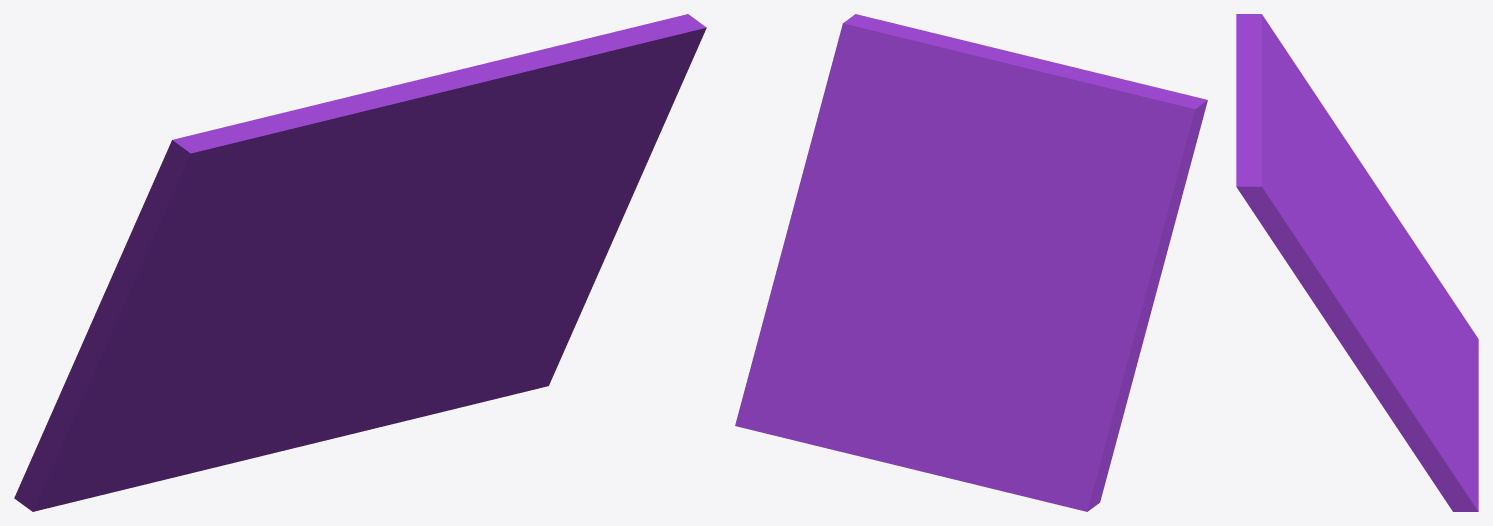
The model's file is Window_24_chunks.fbx.
3 views of the same model, side by side, from view 1: azimuth 30°, elevation 25°; view 2: azimuth 150°, elevation 25°; view 3: azimuth 270°, elevation 25° (orthographic). The views are drawn at different scales.
Visible parts, largest first — view 1: Window_24_7, Window_24_5, Window_24_3, Window_24_1, Window_24_11, Window_24_16, Window_24_17, Window_24_2, Window_24_12, Window_24_13, Window_24_18, Window_24_21 (+14 smaller); view 2: Window_24_7, Window_24_5, Window_24_4, Window_24_9, Window_24_1, Window_24_8, Window_24_2, Window_24_11, Window_24_0, Window_24_30, Window_24_3, Window_24_26 (+12 smaller); view 3: Window_24_7, Window_24_5, Window_24_4, Window_24_3, Window_24_9, Window_24_11, Window_24_1, Window_24_2, Window_24_8, Window_24_0, Window_24_26, Window_24_30 (+11 smaller).
Boxes of the visible parts, x1,y1,x2,y2 form: Window_24_7: (478, 14, 706, 202); Window_24_5: (293, 58, 514, 235); Window_24_3: (398, 218, 622, 382); Window_24_1: (14, 338, 308, 506); Window_24_11: (168, 106, 320, 213); Window_24_16: (137, 212, 251, 335); Window_24_17: (197, 259, 373, 361); Window_24_2: (244, 258, 452, 400); Window_24_12: (72, 265, 188, 416); Window_24_13: (16, 396, 128, 511); Window_24_18: (225, 218, 359, 291); Window_24_21: (375, 355, 550, 428); Window_24_7: (795, 14, 986, 201); Window_24_5: (937, 46, 1137, 217); Window_24_4: (735, 277, 899, 426); Window_24_9: (959, 146, 1090, 299); Window_24_1: (986, 327, 1088, 511); Window_24_8: (1077, 118, 1199, 273); Window_24_2: (893, 243, 1001, 407); Window_24_11: (1051, 83, 1207, 176); Window_24_0: (1036, 215, 1171, 382); Window_24_30: (920, 384, 1018, 495); Window_24_3: (771, 220, 895, 291); Window_24_26: (790, 161, 938, 230); Window_24_7: (1236, 122, 1357, 345); Window_24_5: (1236, 48, 1341, 214); Window_24_4: (1384, 316, 1478, 511); Window_24_3: (1352, 293, 1451, 508); Window_24_9: (1298, 124, 1384, 272); Window_24_11: (1236, 14, 1308, 129); Window_24_1: (1397, 262, 1478, 371); Window_24_2: (1365, 260, 1436, 350); Window_24_8: (1267, 22, 1359, 194); Window_24_0: (1339, 130, 1416, 273); Window_24_26: (1320, 213, 1367, 359); Window_24_30: (1432, 328, 1478, 397).
Size of the model in its own units: 1059 by 930 by 628.
